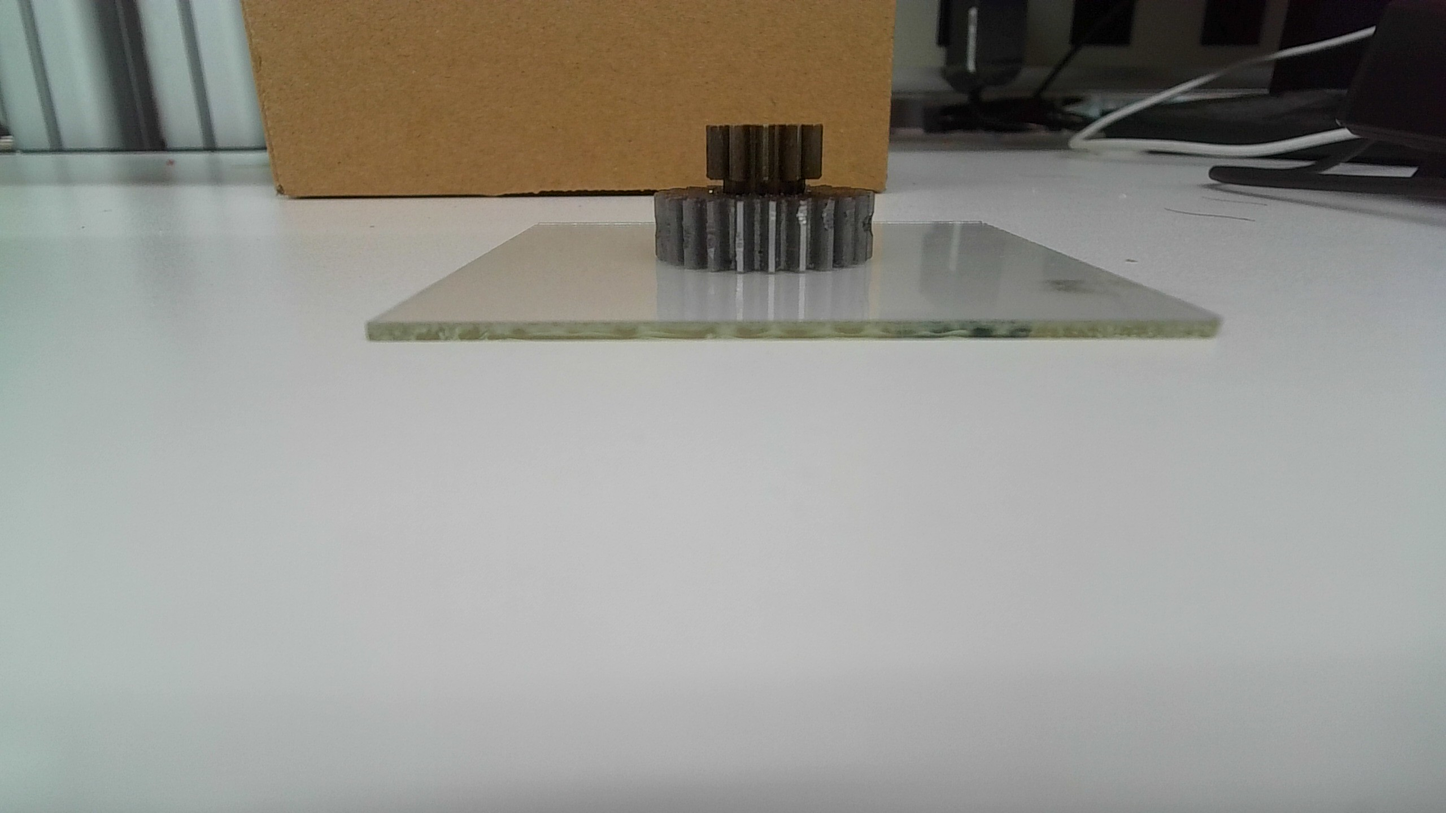gear: (652, 125, 879, 278)
